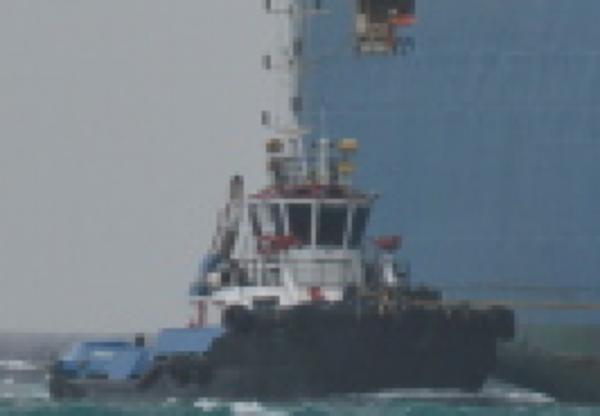Tug: (0, 4, 600, 416)
